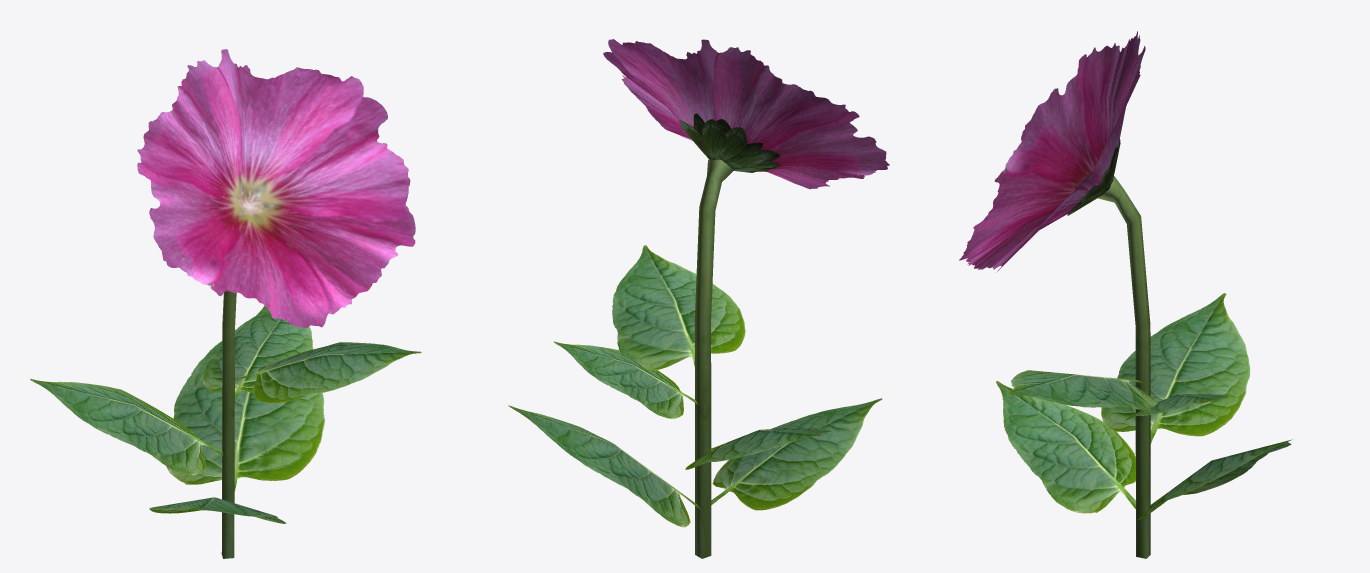
The model's file is Flower_08.FBX.
3 views of the same model, side by side, from view 1: azimuth 30°, elevation 25°; view 2: azimuth 150°, elevation 25°; view 3: azimuth 270°, elevation 25° (orthographic).
Visible parts, largest first — view 1: Flower_08; view 2: Flower_08; view 3: Flower_08.
Part boxes in pixels (bbox=[...]): Flower_08: bbox=[30, 49, 421, 558]; Flower_08: bbox=[508, 39, 889, 558]; Flower_08: bbox=[959, 31, 1292, 558].
Bounding box in the file's own units: 0.5154 × 0.7154 × 0.5026.
